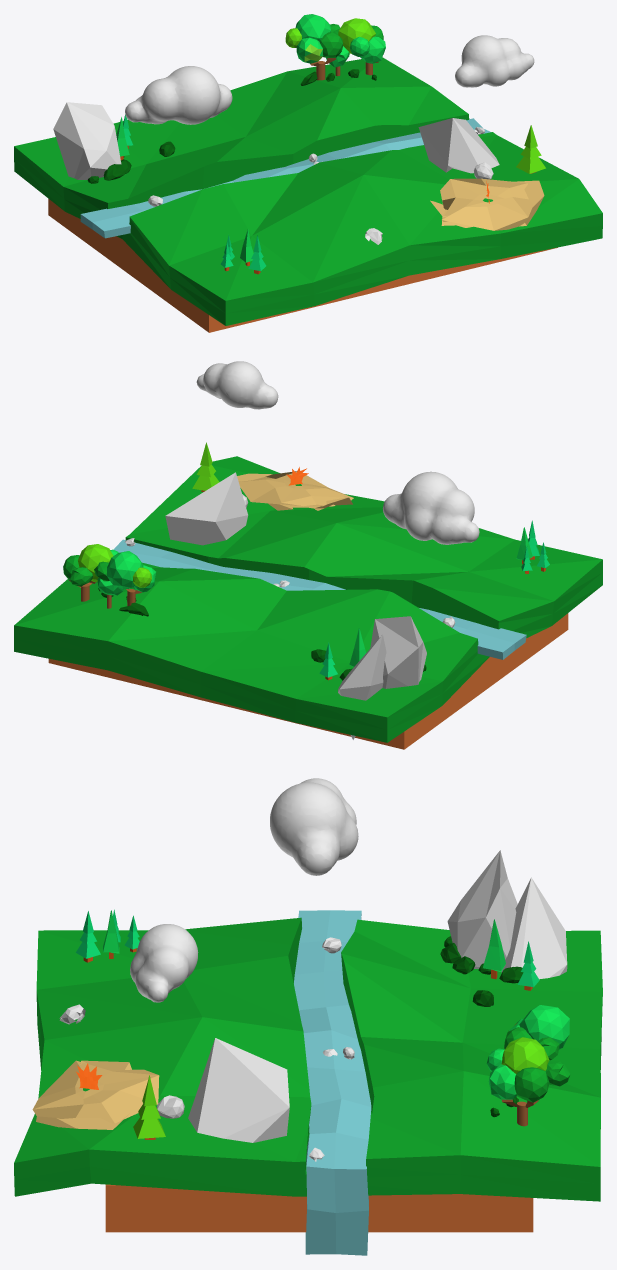
The model's file is floating_island.glb.
The picture shows the model from 3 angles, top to bottom: view 1: azimuth 30°, elevation 25°; view 2: azimuth 150°, elevation 25°; view 3: azimuth 270°, elevation 25°; orthographic projection. The views are drawn at different scales.
Parts seen in each view (by area): view 1: Cube, Mball.016, Icosphere, Circle, Plane, Icosphere.001, Icosphere.005, Cube.003, Icosphere.002, Icosphere.006; view 2: Cube, Icosphere, Mball.016, Plane, Circle, Icosphere.005, Icosphere.001, Cube.003, Icosphere.002; view 3: Cube, Plane, Icosphere, Mball.016, Circle, Icosphere.005, Cube.003, Icosphere.001, Icosphere.002, Icosphere.006, Cube.004.
Part boxes in pixels (x1,y1,x2,y2): Cube: (14,57,602,332); Mball.016: (125,35,534,124); Icosphere: (53,102,499,179); Circle: (430,178,544,230); Plane: (80,118,491,238); Icosphere.001: (285,14,342,80); Icosphere.005: (326,18,385,76); Cube.003: (123,114,545,274); Icosphere.002: (87,69,376,183); Icosphere.006: (365,162,493,244); Cube: (14,456,602,749); Icosphere: (165,472,426,739); Mball.016: (196,361,479,544); Plane: (114,539,526,659); Circle: (237,471,353,510); Icosphere.005: (63,544,123,608); Icosphere.001: (94,551,156,605); Cube.003: (192,442,549,680); Icosphere.002: (98,588,426,680); Cube: (14,917,602,1232); Plane: (294,910,371,1255); Icosphere: (188,850,567,1142); Mball.016: (130,778,358,1002); Circle: (32,1060,159,1129); Icosphere.005: (486,1037,570,1126); Cube.003: (76,909,539,1139); Icosphere.001: (504,1005,569,1060); Icosphere.002: (440,936,523,1117); Icosphere.006: (59,1004,184,1118); Cube.004: (483,919,505,979).
Bounding box in the file's own units: 2.84 × 1.49 × 2.75.
